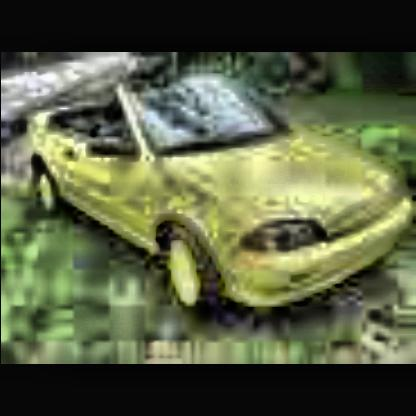Geo Metro Convertible 1993: (24, 76, 416, 333)
